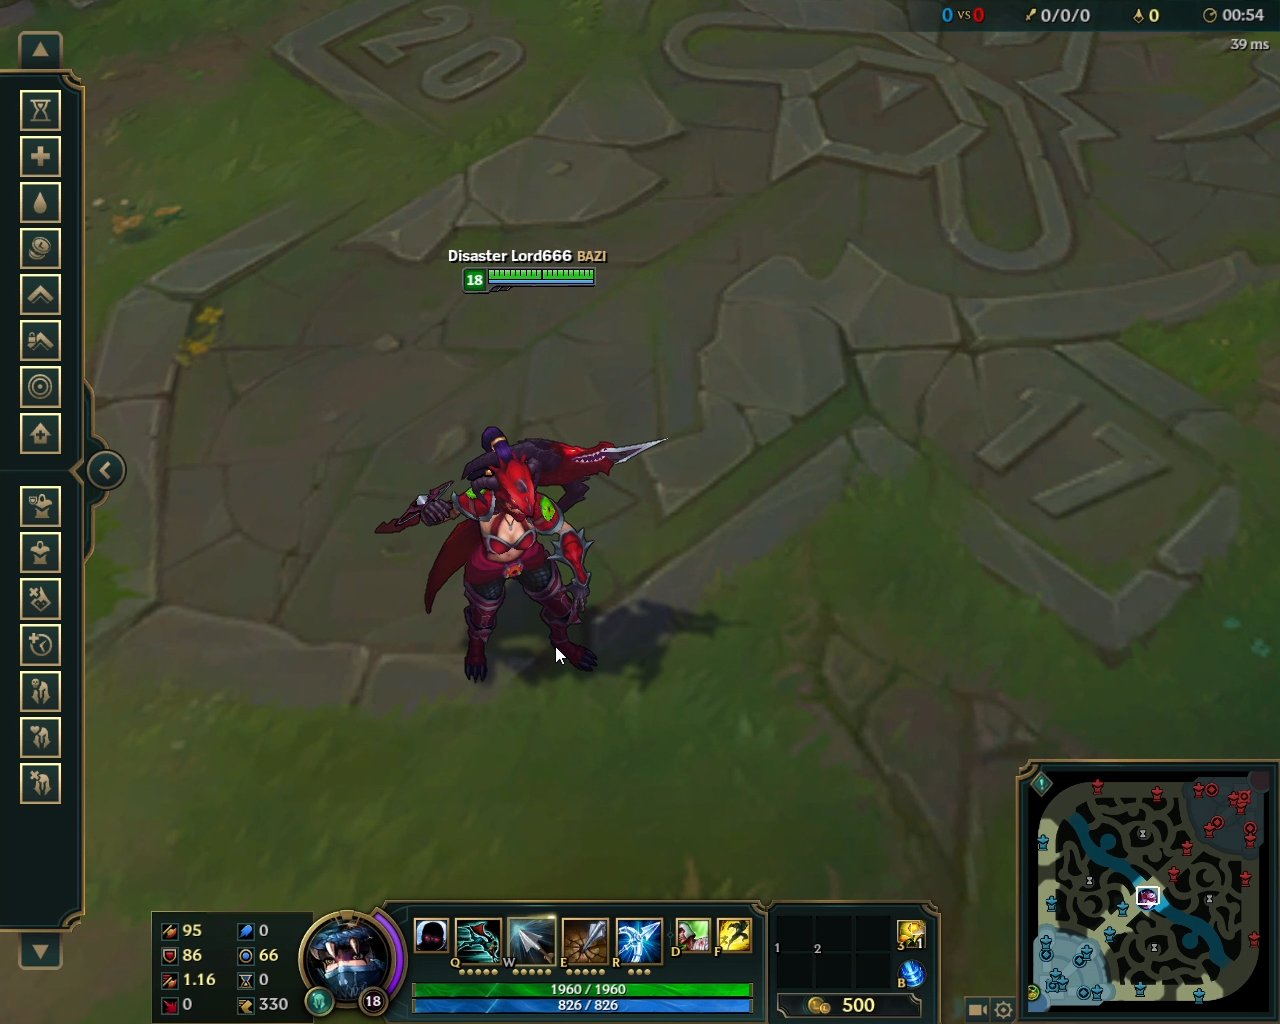Vayne: (366, 390, 678, 708)
